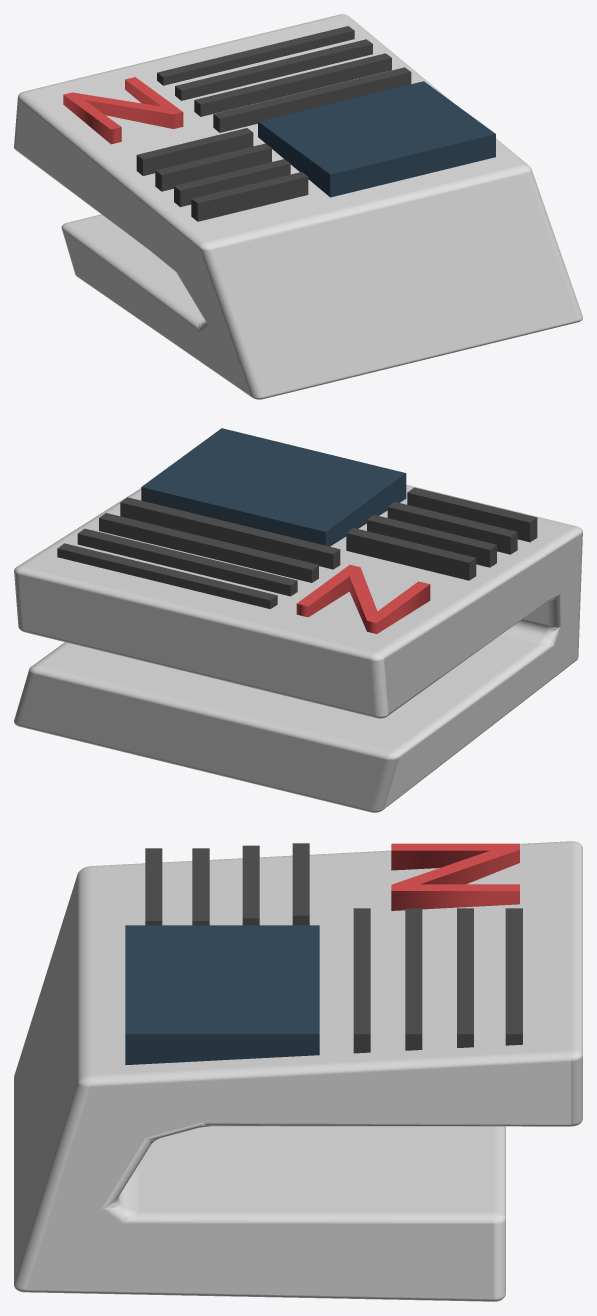
File: iconNews.gltf
The picture shows the model from 3 angles, top to bottom: view 1: azimuth 30°, elevation 25°; view 2: azimuth 150°, elevation 25°; view 3: azimuth 270°, elevation 25°; orthographic projection. The views are drawn at different scales.
Parts seen in each view (by area): view 1: Cube, Cube.001, Cube.005, Text, Cube.004, Cube.003, Cube.002, Cube.009, Cube.006, Cube.007, Cube.008; view 2: Cube, Cube.001, Cube.005, Cube.004, Cube.003, Text, Cube.002, Cube.006, Cube.009, Cube.008, Cube.007; view 3: Cube, Cube.001, Text, Cube.005, Cube.004, Cube.002, Cube.003, Cube.006, Cube.007, Cube.008, Cube.009.
Part boxes in pixels (x1,y1,x2,y2): Cube: (14, 14, 582, 399); Cube.001: (258, 81, 495, 197); Cube.005: (213, 67, 411, 132); Text: (63, 77, 183, 144); Cube.004: (194, 53, 391, 116); Cube.003: (175, 39, 372, 100); Cube.002: (157, 26, 354, 85); Cube.009: (191, 172, 308, 221); Cube.006: (136, 128, 253, 175); Cube.007: (155, 143, 271, 191); Cube.008: (174, 159, 290, 207); Cube: (14, 484, 582, 812); Cube.001: (141, 428, 406, 546); Cube.005: (120, 497, 340, 569); Cube.004: (99, 513, 318, 582); Cube.003: (77, 528, 297, 596); Text: (296, 564, 430, 633); Cube.002: (57, 543, 277, 608); Cube.006: (346, 528, 476, 580); Cube.009: (407, 487, 537, 542); Cube.008: (387, 502, 517, 554); Cube.007: (367, 515, 496, 567); Cube: (14, 841, 582, 1301); Cube.001: (125, 925, 319, 1065); Text: (391, 843, 519, 910); Cube.005: (353, 908, 370, 1053); Cube.004: (405, 908, 422, 1050); Cube.002: (505, 908, 522, 1045); Cube.003: (457, 908, 473, 1047); Cube.006: (292, 843, 309, 925); Cube.007: (242, 845, 259, 925); Cube.008: (192, 848, 209, 925); Cube.009: (145, 848, 162, 925).
Bounding box in the file's own units: 1.99 × 0.9291 × 1.99.
